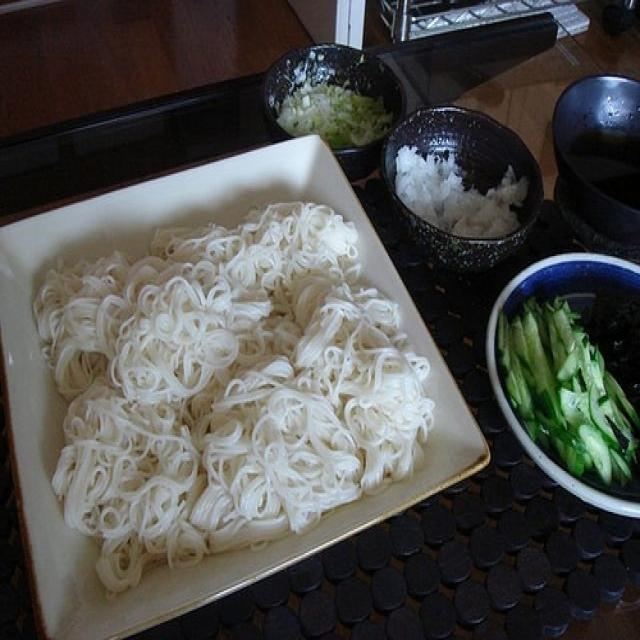面条主食: (26, 154, 492, 628)
